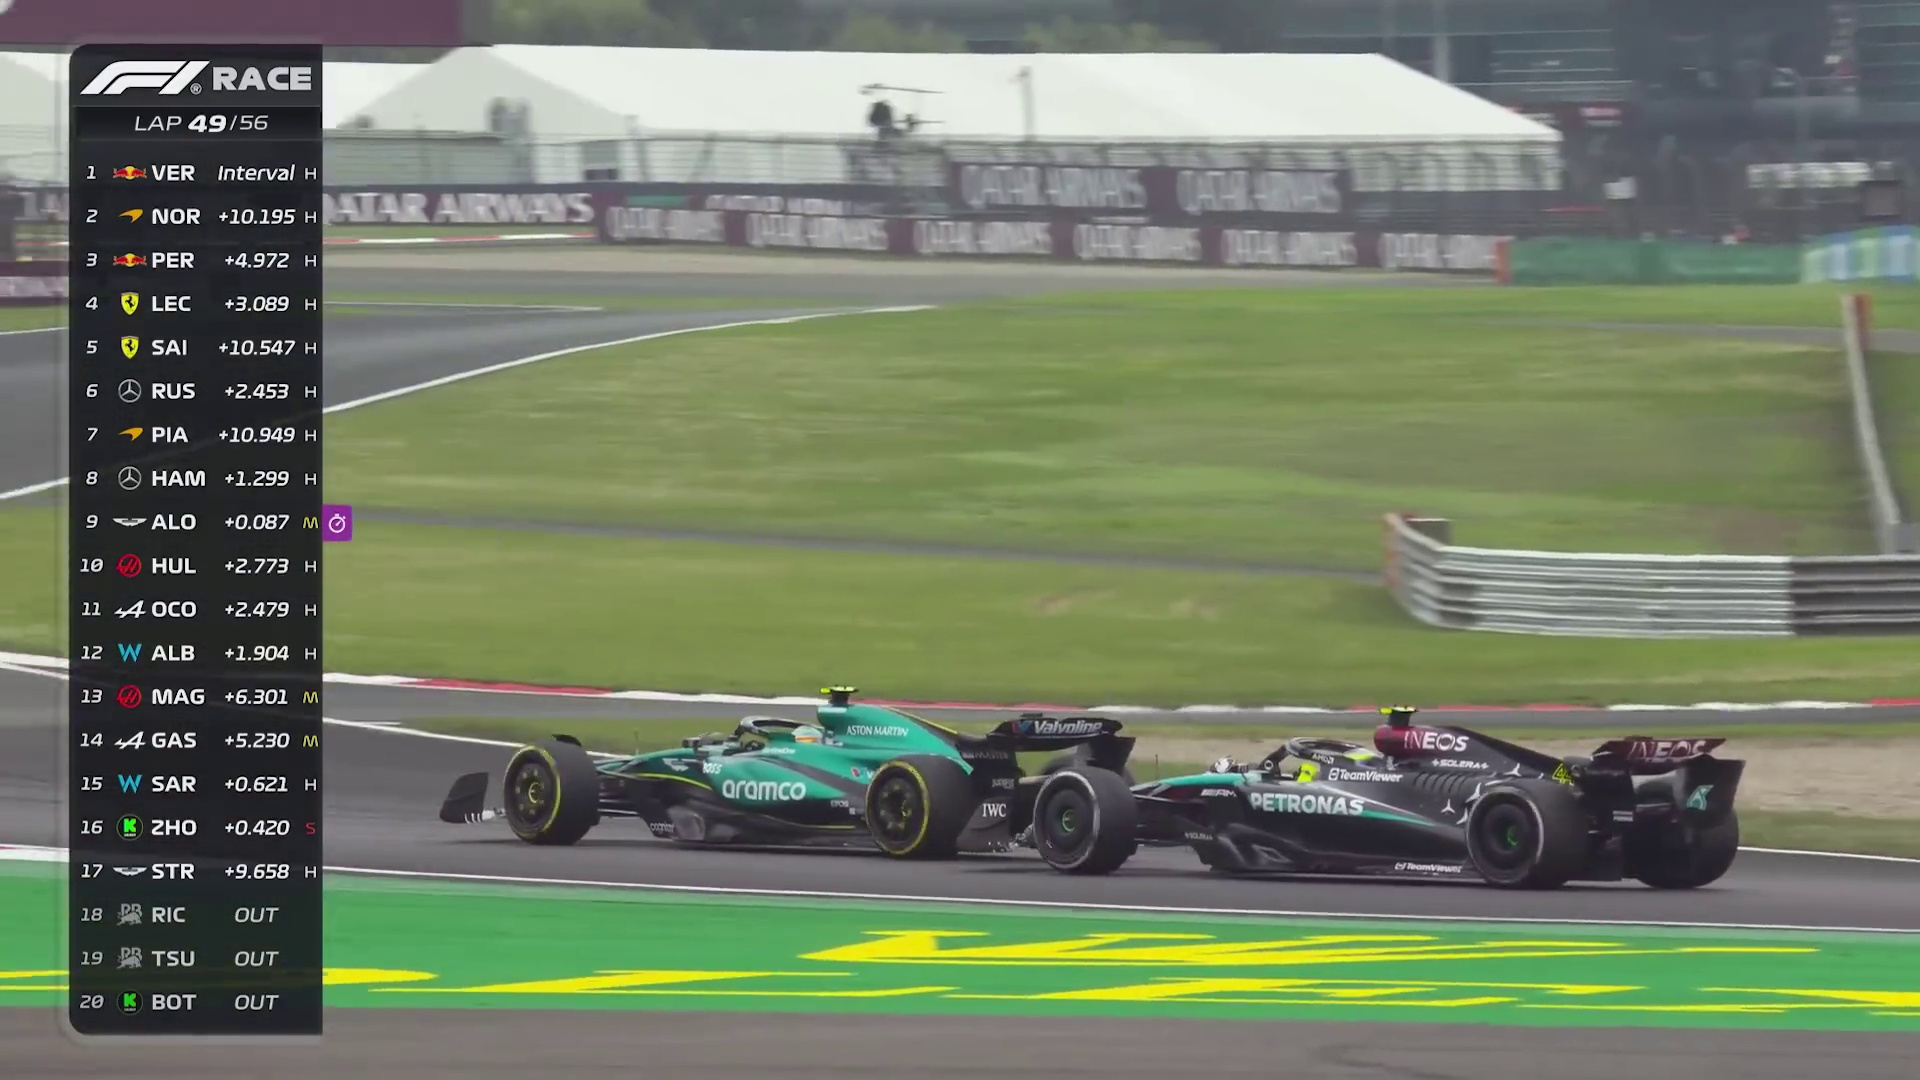AstonMartin: (445, 702, 1130, 864)
Mercedes: (1100, 734, 1744, 876)
